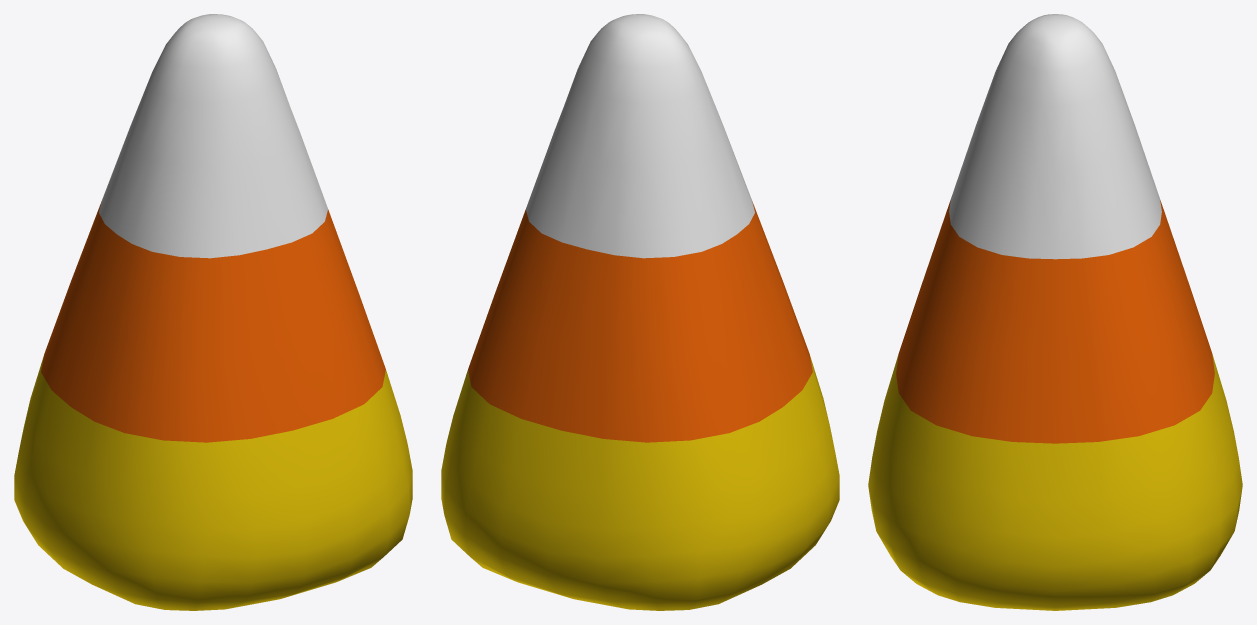
Rendered from CandyCorn.fbx.
3 renders of one model, left to right at view 1: azimuth 30°, elevation 25°; view 2: azimuth 150°, elevation 25°; view 3: azimuth 270°, elevation 25°, orthographic.
Parts seen in each view (by area): view 1: Cube; view 2: Cube; view 3: Cube.
Boxes of the visible parts, box(x1,y1,x2,y2) form: Cube: box(14, 14, 412, 610); Cube: box(441, 14, 839, 610); Cube: box(868, 14, 1242, 610).
Size of the model in its own units: 118 by 182 by 113.
